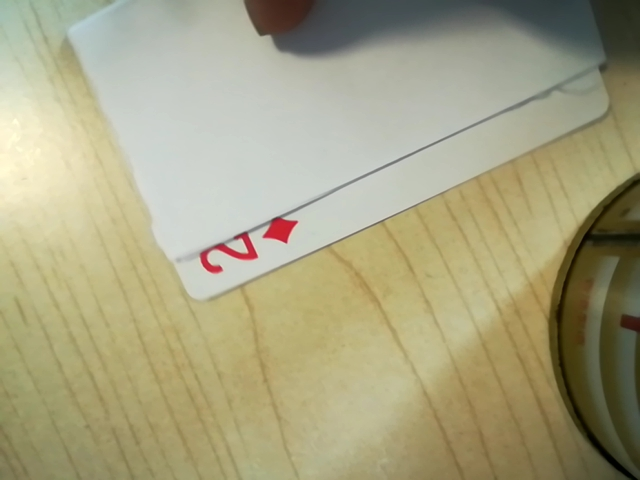fk 2: (185, 216, 300, 279)
